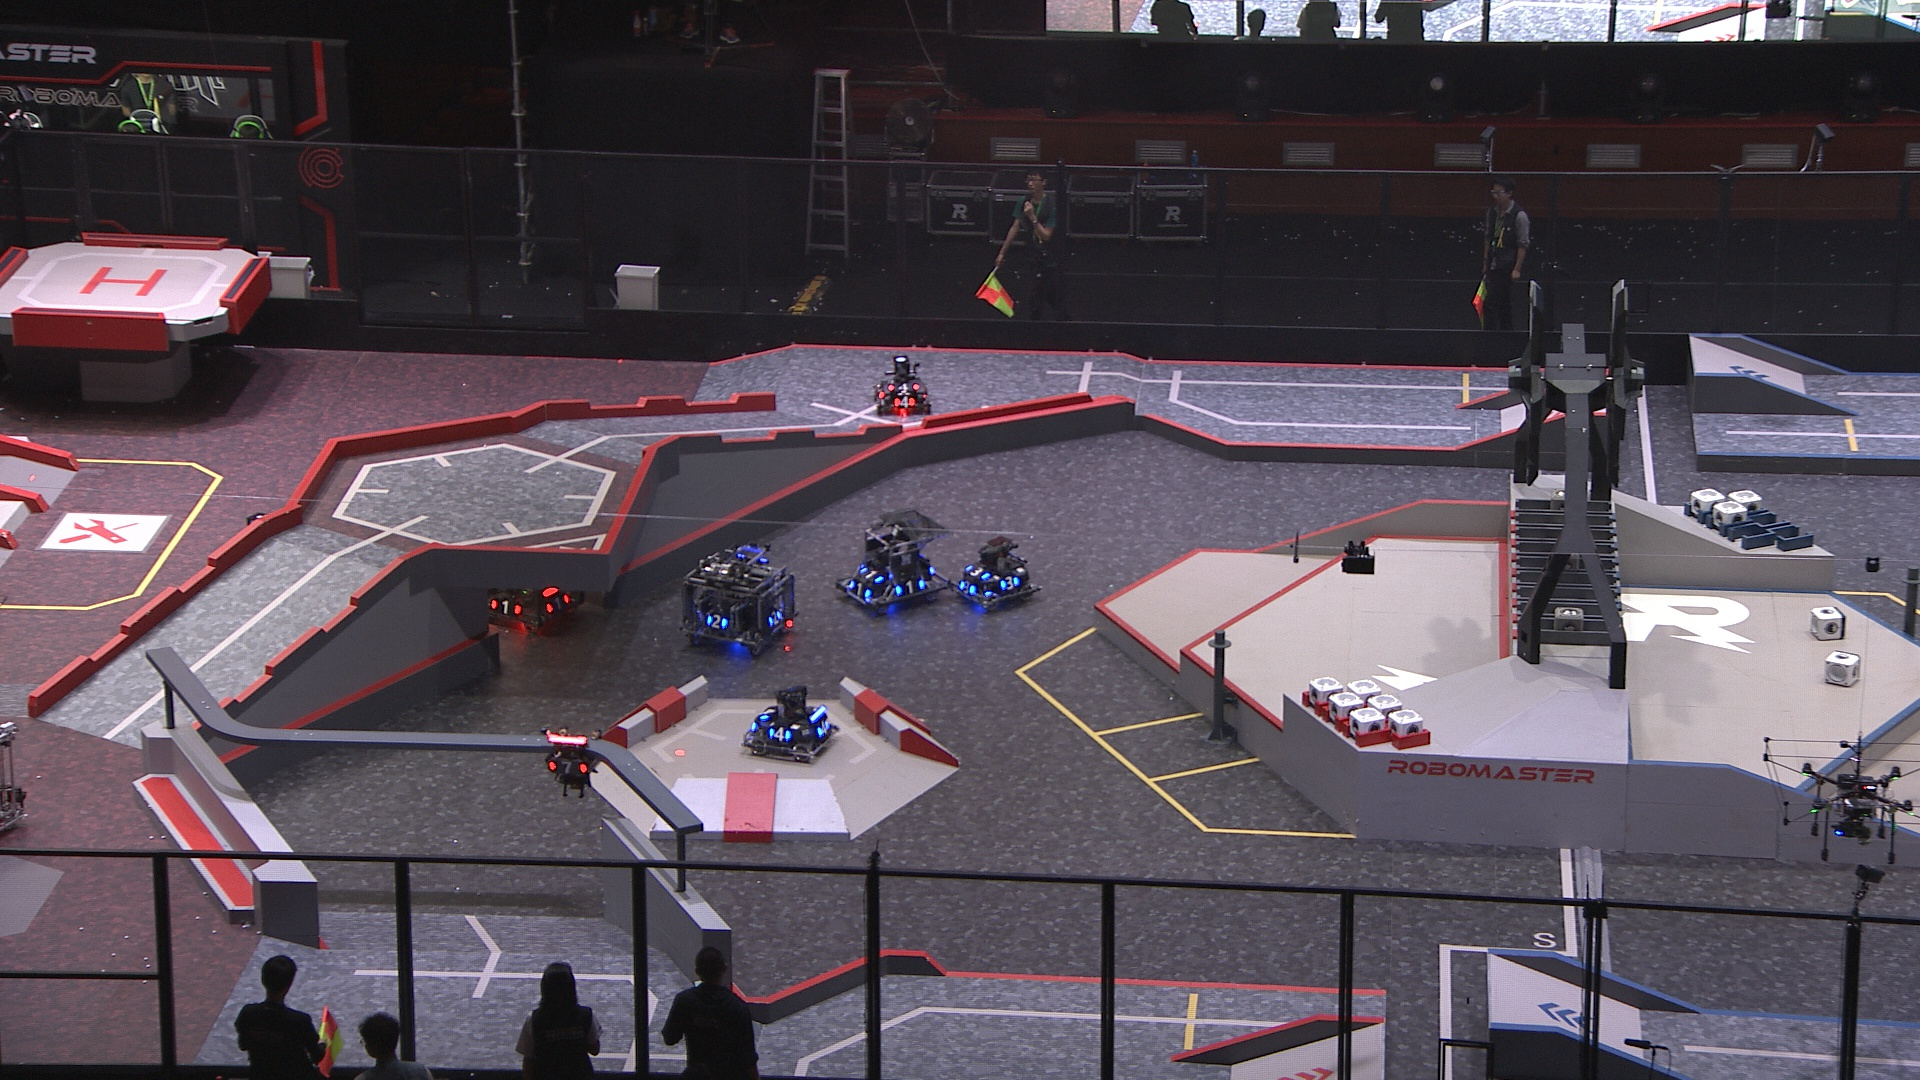armor: (546, 760, 589, 777), (893, 579, 928, 597), (491, 597, 520, 617), (546, 593, 570, 613), (705, 613, 731, 632), (858, 566, 882, 584), (847, 582, 870, 599), (760, 702, 778, 723), (767, 727, 794, 741), (891, 381, 918, 394), (964, 564, 988, 579), (956, 579, 975, 597), (767, 609, 785, 629), (998, 575, 1021, 589), (893, 396, 915, 410), (816, 717, 831, 737)
car: (676, 542, 796, 659), (468, 531, 588, 642), (836, 506, 949, 618), (740, 687, 839, 761), (953, 534, 1043, 613), (216, 506, 309, 572), (874, 353, 934, 417)
watcher: (541, 728, 605, 796)
